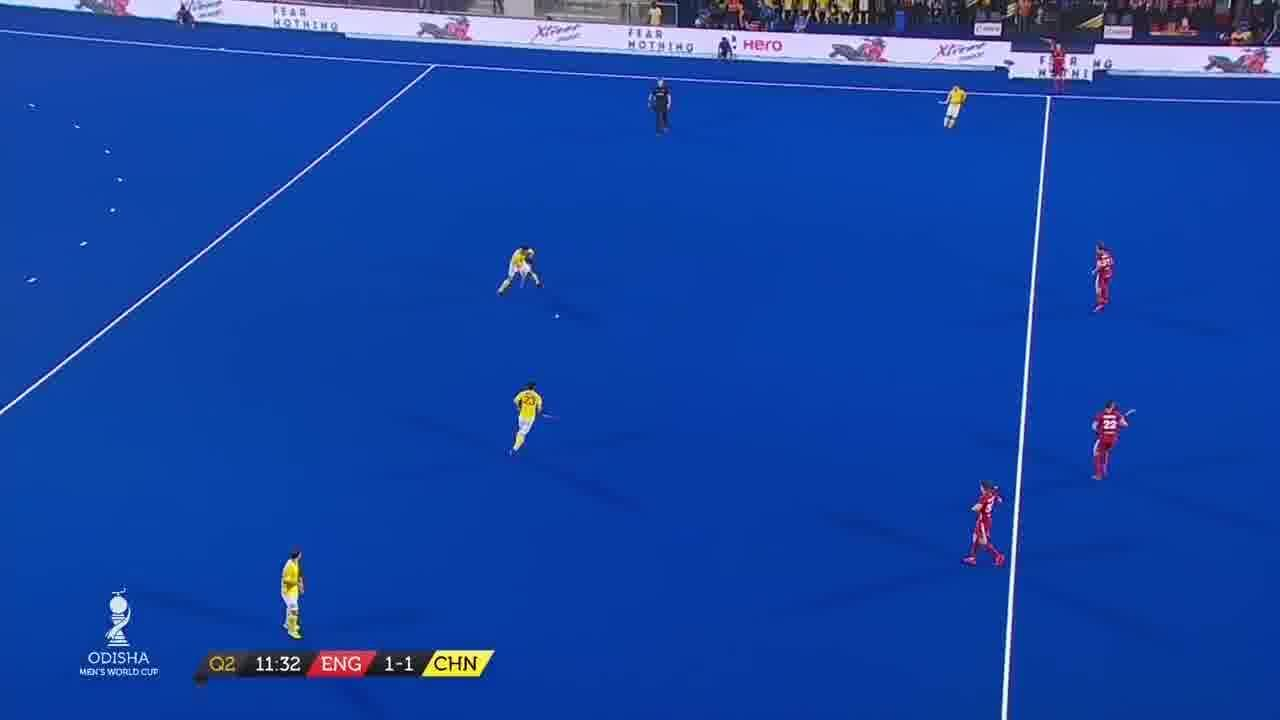ball: (552, 311, 562, 323)
